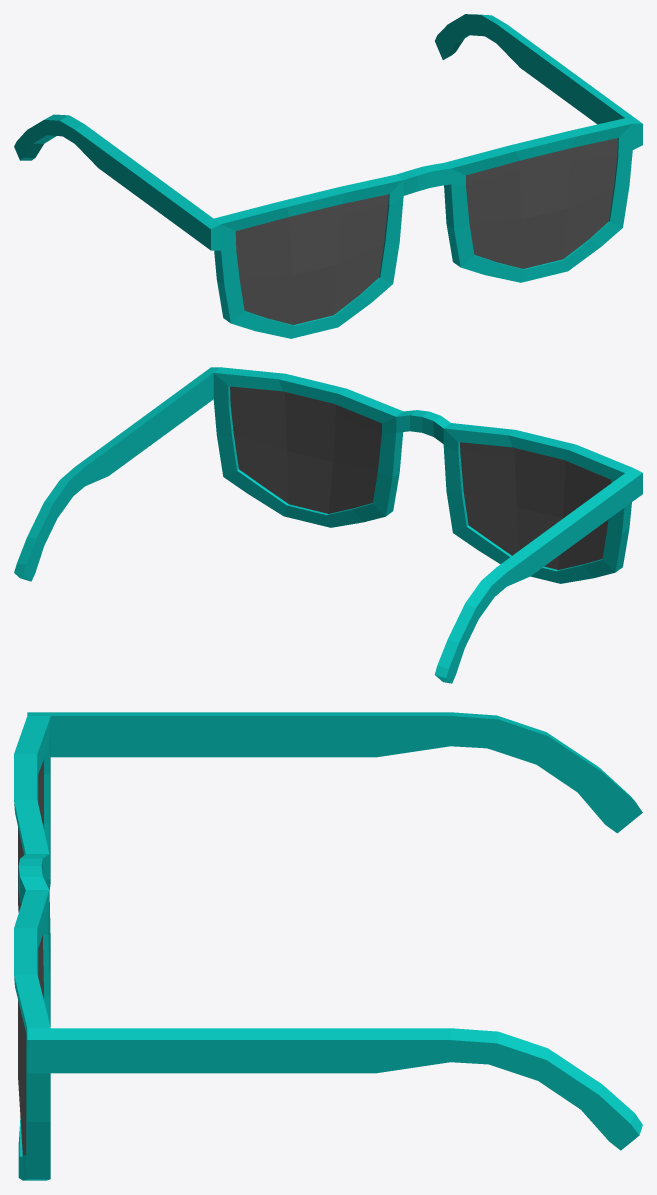
File: misc-sunglasses.glb
The picture shows the model from 3 angles, top to bottom: view 1: azimuth 30°, elevation 25°; view 2: azimuth 150°, elevation 25°; view 3: azimuth 270°, elevation 25°; orthographic projection. The views are drawn at different scales.
Visible parts, largest first — view 1: node-0; view 2: node-0; view 3: node-0.
Boxes of the visible parts, bbox=[...] form: node-0: bbox=[14, 14, 642, 338]; node-0: bbox=[14, 367, 642, 683]; node-0: bbox=[14, 712, 642, 1180].
Size of the model in its own units: 33.04 by 9.82 by 26.79.
